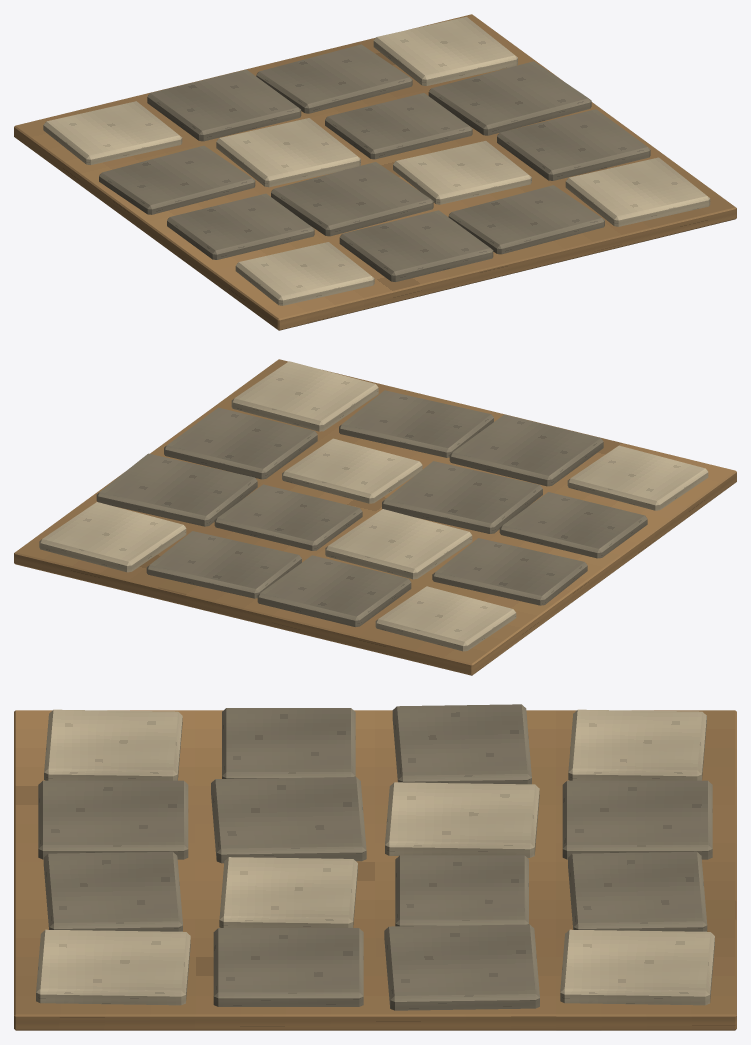
The model's file is StoneRoad_Straight.glb.
The picture shows the model from 3 angles, top to bottom: view 1: azimuth 30°, elevation 25°; view 2: azimuth 150°, elevation 25°; view 3: azimuth 270°, elevation 25°; orthographic projection. The views are drawn at different scales.
Parts seen in each view (by area): view 1: RoadBed, Paver11, Paver05, Paver01, Paver13, Paver07, Paver08, Paver02, Paver14, Paver03, Paver15, Paver09 (+5 smaller); view 2: RoadBed, Paver11, Paver05, Paver13, Paver01, Paver07, Paver08, Paver14, Paver02, Paver15, Paver03, Paver09 (+5 smaller); view 3: RoadBed, Paver11, Paver05, Paver07, Paver15, Paver03, Paver01, Paver13, Paver09, Paver08, Paver14, Paver02 (+5 smaller).
Boxes of the visible parts, bbox=[...] form: RoadBed: bbox=[14, 14, 736, 330]; Paver11: bbox=[428, 61, 591, 135]; Paver05: bbox=[271, 162, 433, 236]; Paver01: bbox=[339, 210, 493, 281]; Paver13: bbox=[147, 69, 301, 141]; Paver07: bbox=[497, 109, 650, 180]; Paver08: bbox=[99, 145, 255, 214]; Paver02: bbox=[448, 185, 604, 254]; Paver14: bbox=[256, 44, 412, 113]; Paver03: bbox=[565, 157, 710, 226]; Paver15: bbox=[373, 17, 517, 85]; Paver09: bbox=[216, 118, 360, 187]; RoadBed: bbox=[14, 359, 736, 675]; Paver11: bbox=[96, 453, 257, 526]; Paver05: bbox=[382, 461, 542, 533]; Paver13: bbox=[257, 555, 411, 626]; Paver01: bbox=[449, 414, 603, 486]; Paver07: bbox=[164, 407, 317, 479]; Paver08: bbox=[432, 538, 587, 605]; Paver14: bbox=[146, 531, 301, 598]; Paver02: bbox=[339, 390, 493, 457]; Paver15: bbox=[39, 502, 186, 572]; Paver03: bbox=[231, 361, 378, 431]; Paver09: bbox=[325, 509, 472, 579]; RoadBed: bbox=[14, 710, 736, 1030]; Paver11: bbox=[384, 924, 539, 1010]; Paver05: bbox=[211, 777, 366, 863]; Paver07: bbox=[213, 928, 363, 1006]; Paver15: bbox=[560, 929, 714, 1005]; Paver03: bbox=[36, 929, 190, 1005]; Paver01: bbox=[38, 780, 188, 859]; Paver13: bbox=[562, 780, 712, 859]; Paver09: bbox=[385, 782, 539, 857]; Paver08: bbox=[392, 704, 531, 784]; Paver14: bbox=[568, 851, 707, 931]; Paver02: bbox=[43, 851, 182, 931].
Size of the model in its own units: 4 by 0.178 by 4.
Materials: 3 (3 with a texture image).
